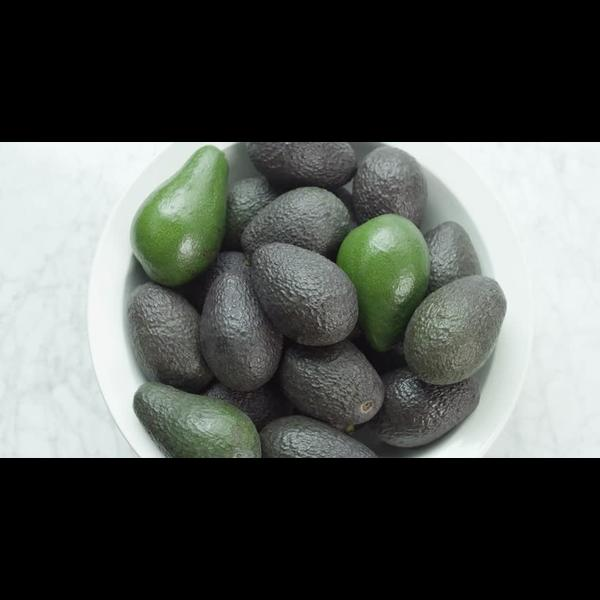almost: (403, 275, 507, 386)
ripe: (250, 242, 358, 346), (199, 270, 282, 391), (127, 282, 214, 390), (278, 338, 385, 424), (368, 365, 480, 447), (240, 186, 350, 261), (352, 145, 427, 230), (262, 415, 379, 457), (245, 142, 358, 185), (424, 221, 482, 294)
unripe: (130, 145, 229, 287), (336, 213, 429, 352), (133, 382, 261, 457)
